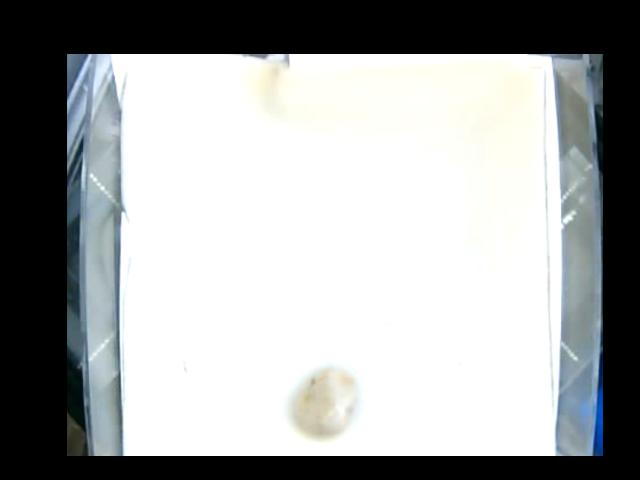Pebble: (293, 367, 357, 436)
